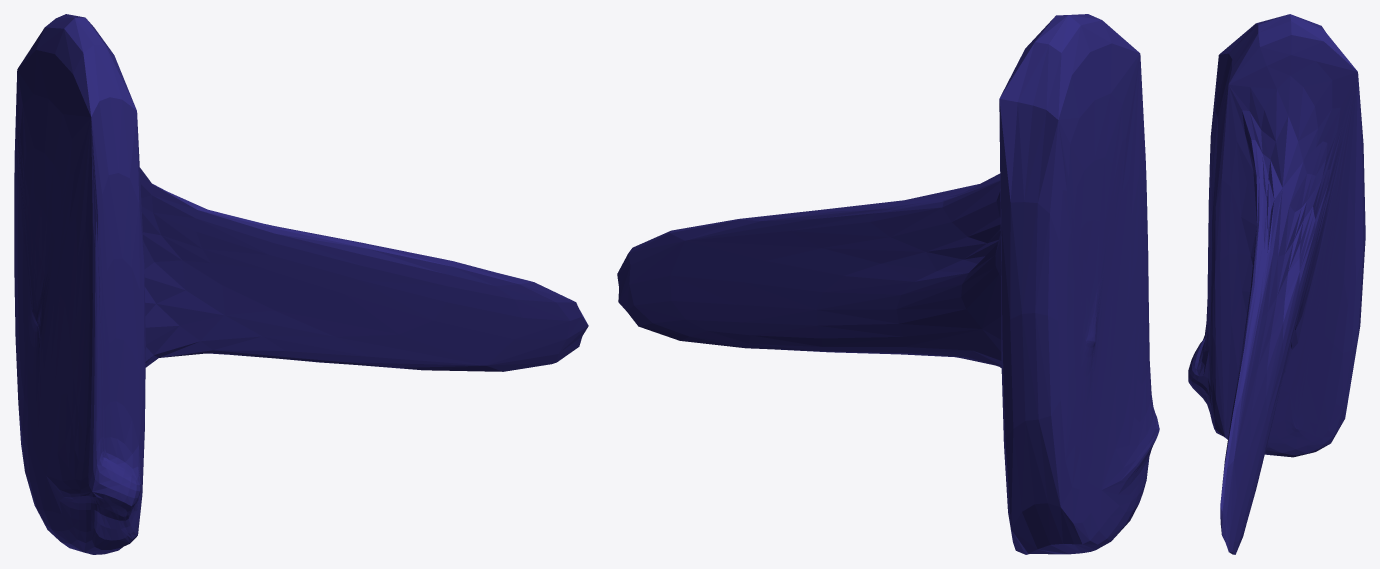
3 views of the same model, side by side, from view 1: azimuth 30°, elevation 25°; view 2: azimuth 150°, elevation 25°; view 3: azimuth 270°, elevation 25° (orthographic). The views are drawn at different scales.
Visible parts, largest first — view 1: 996_Cube.4020; view 2: 996_Cube.4020; view 3: 996_Cube.4020.
Boxes of the visible parts, x1,y1,x2,y2 form: 996_Cube.4020: (14,14,588,554); 996_Cube.4020: (617,14,1159,554); 996_Cube.4020: (1188,14,1365,554).
Size of the model in its own units: 11.53 by 11.25 by 4.17.
